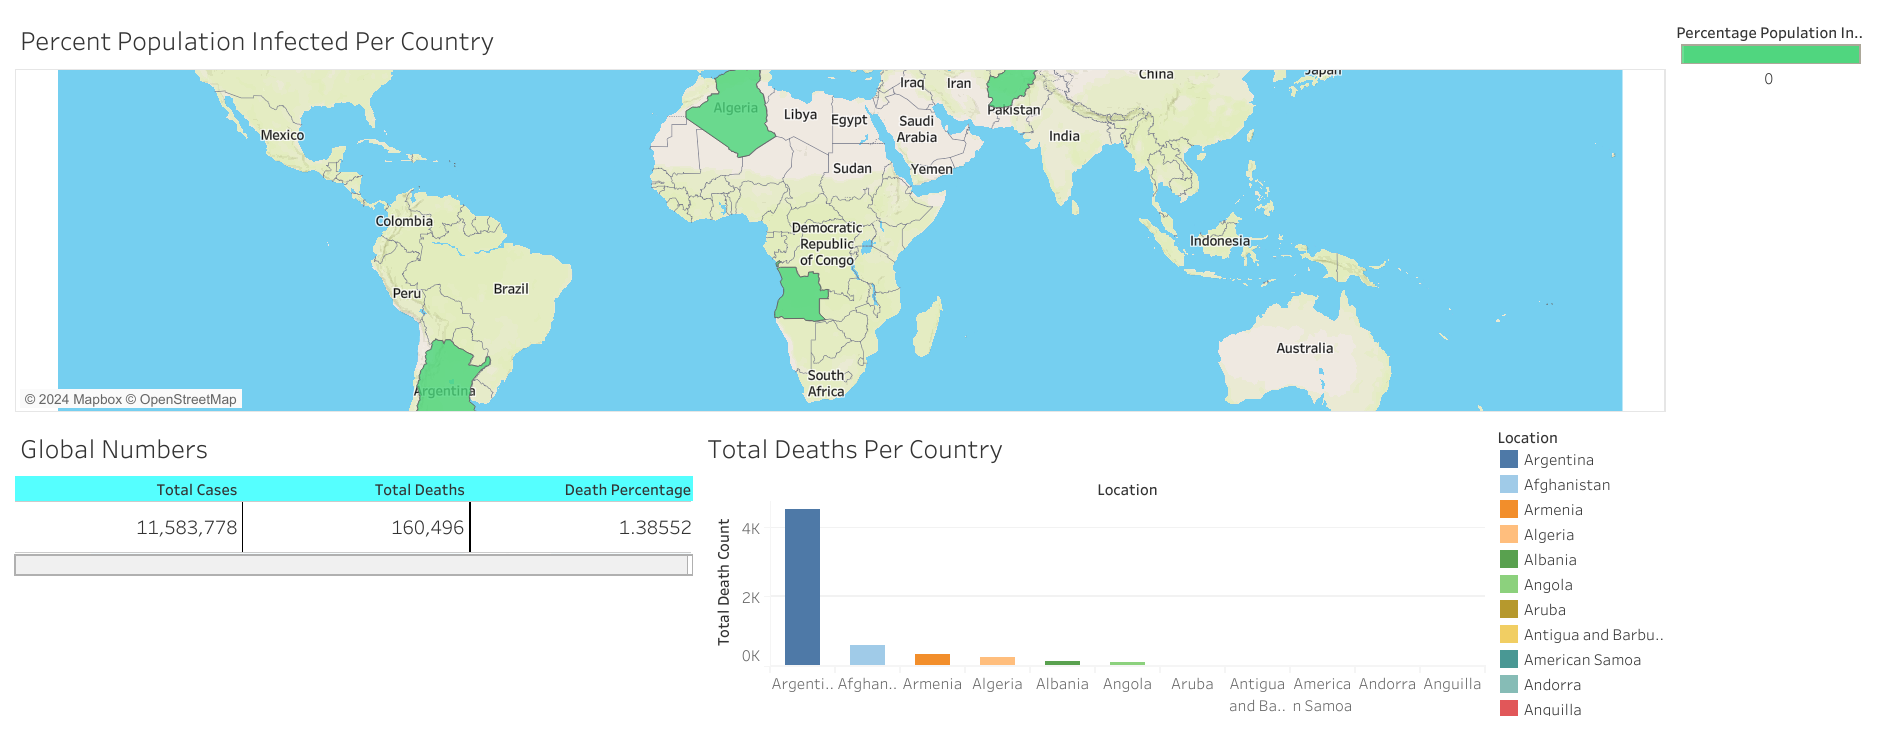

What the dashboard file says about the page in this screenshot:
{"tool":"tableau","page":{"name":"Dashboard 1","canvas":[1000,1000],"units":"permille","ordinal":0},"visuals":[{"type":"worksheet","title":"Sheet 3","mark":"Automatic","box":[4.8,9.4,893.8,562.9]},{"type":"legend","title":"Sheet 3","param":"[federated.1ql5aq407jw4el13bo6x80u371hc].[sum:PercentagePopulationInfected:qk]","box":[898.6,9.4,96.6,85.8]},{"type":"worksheet","title":"Sheet 1","mark":"Automatic","box":[4.8,572.3,369.9,418.3]},{"type":"worksheet","title":"Sheet 2","mark":"Automatic","rows":["TotalDeathCount"],"cols":["location"],"box":[374.8,572.3,427.3,418.3]},{"type":"legend","title":"Sheet 2","param":"[federated.0uuvhvm0j0bct914ny1j413svn67].[none:location:nk]","box":[802.1,572.3,96.6,418.3]}]}

Visuals, with their boxes on the dashboard's canvas, which has no fixed pixel size, in thousandths of its width and height (x1, y1, x2, y2). These are canvas units, not pixel positions in the 1880x730 screenshot, which may show the page scaled, cropped or inside an application window:
"Sheet 3" worksheet: 5/9/899/572
"Sheet 3" legend: 899/9/995/95
"Sheet 1" worksheet: 5/572/375/991
"Sheet 2" worksheet: 375/572/802/991
"Sheet 2" legend: 802/572/899/991
